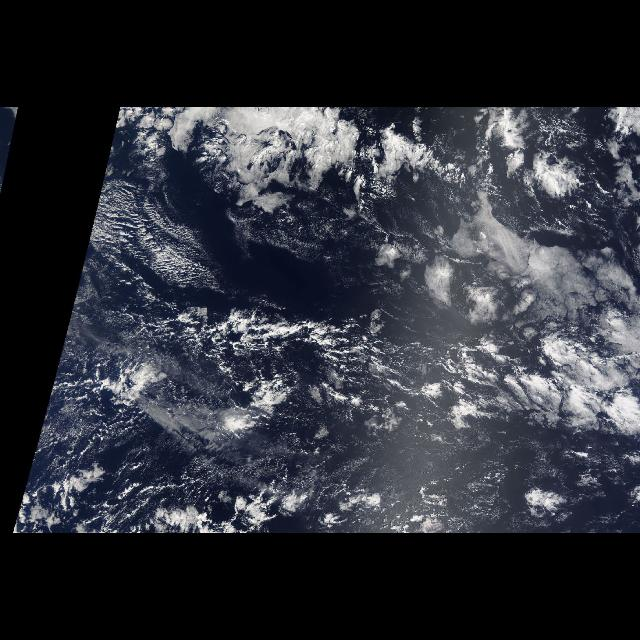Gravel: (128, 288, 628, 452)
Sugar: (72, 182, 282, 482)
